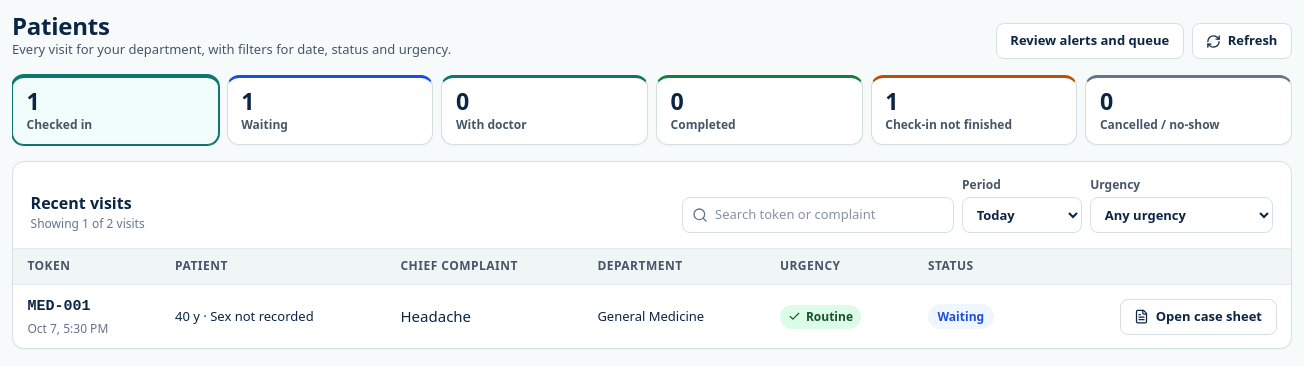
it: Phase 7.5 nurse assisted registration › only opens case sheets after a patient has submitted their history
The width and height of the screenshot is (1304, 366).
Expected: the text "History not submitted" is not shown
Click the button "1 Check-in not finished".
click(974, 110)  # box [871,75,1077,145]
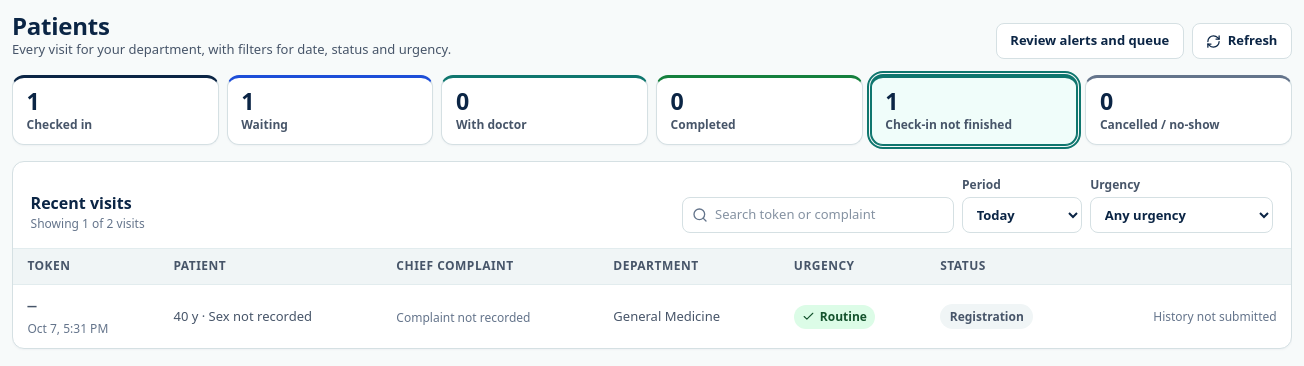
Result: the text "History not submitted" is shown at [1153,308,1277,325]
Result: no links "Open case sheet" are shown
